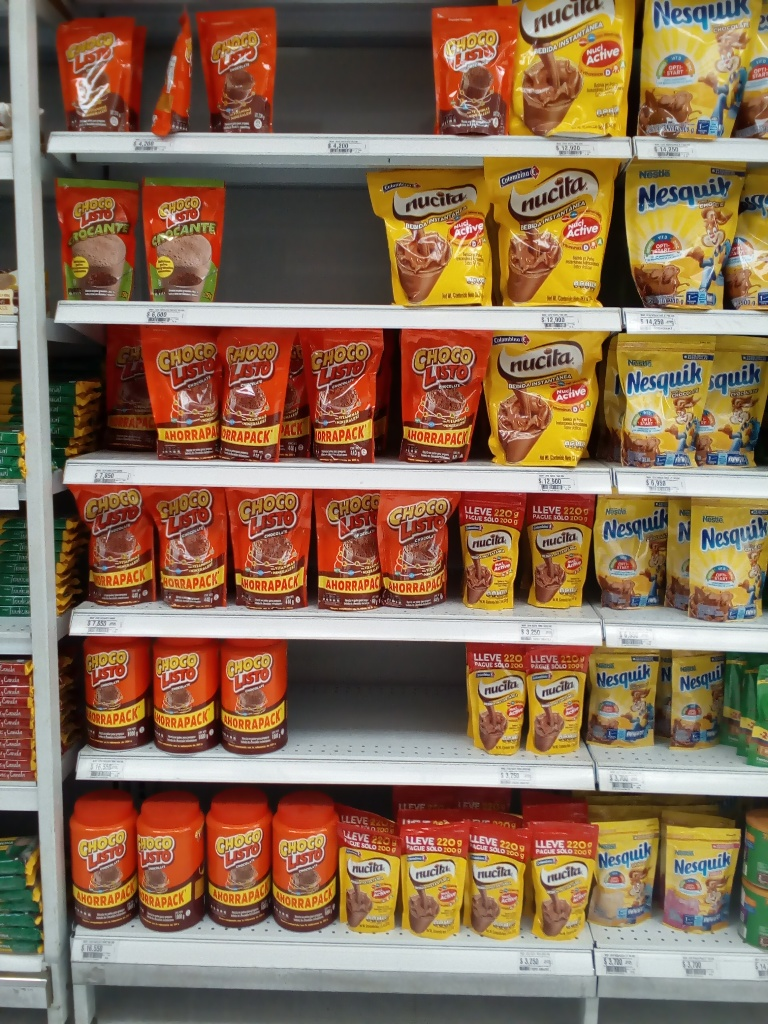COL0170102DYP25000: (137, 176, 220, 302)
COL0170103DYP44000: (398, 328, 482, 462)
COL0170103TRR00100: (217, 636, 293, 753)
COL0170303DYP20000: (613, 334, 707, 466)
COL0170305DYP20000: (662, 816, 740, 931)
COL0170306DYP20000: (594, 818, 661, 928)
